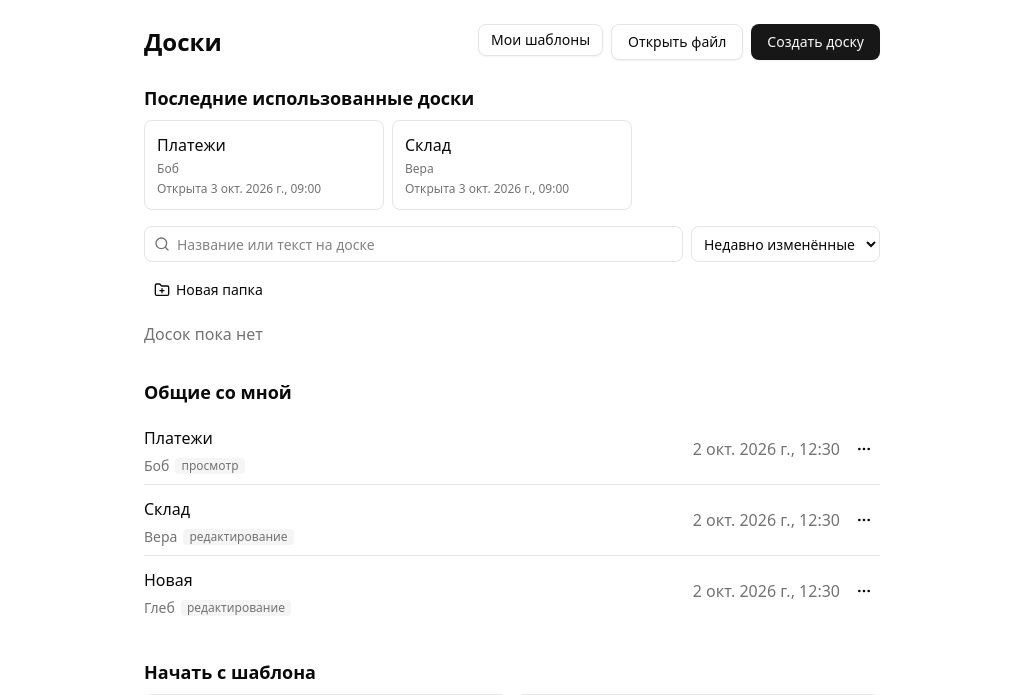
BoardsPage › shows the role of the user on each shared board, and a board of a member that was never opened
Select "Недавно открытые" in the dropdown named "Порядок досок". click: (786, 244)
box: 691,226 -> 880,262
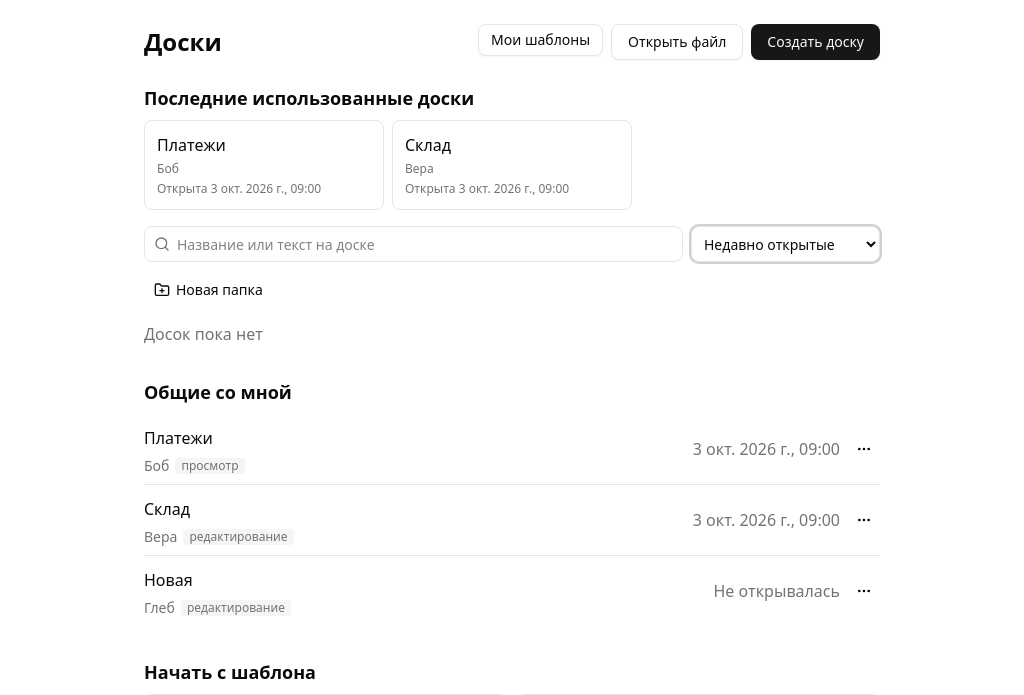
Expected: the list item "Платежи Боб просмотр 3 окт. 2026 г., 09:00" is shown, 144,414 -> 880,485
Now the list item "Новая Глеб редактирование Не открывалась" is shown, box 144,556 -> 880,626
